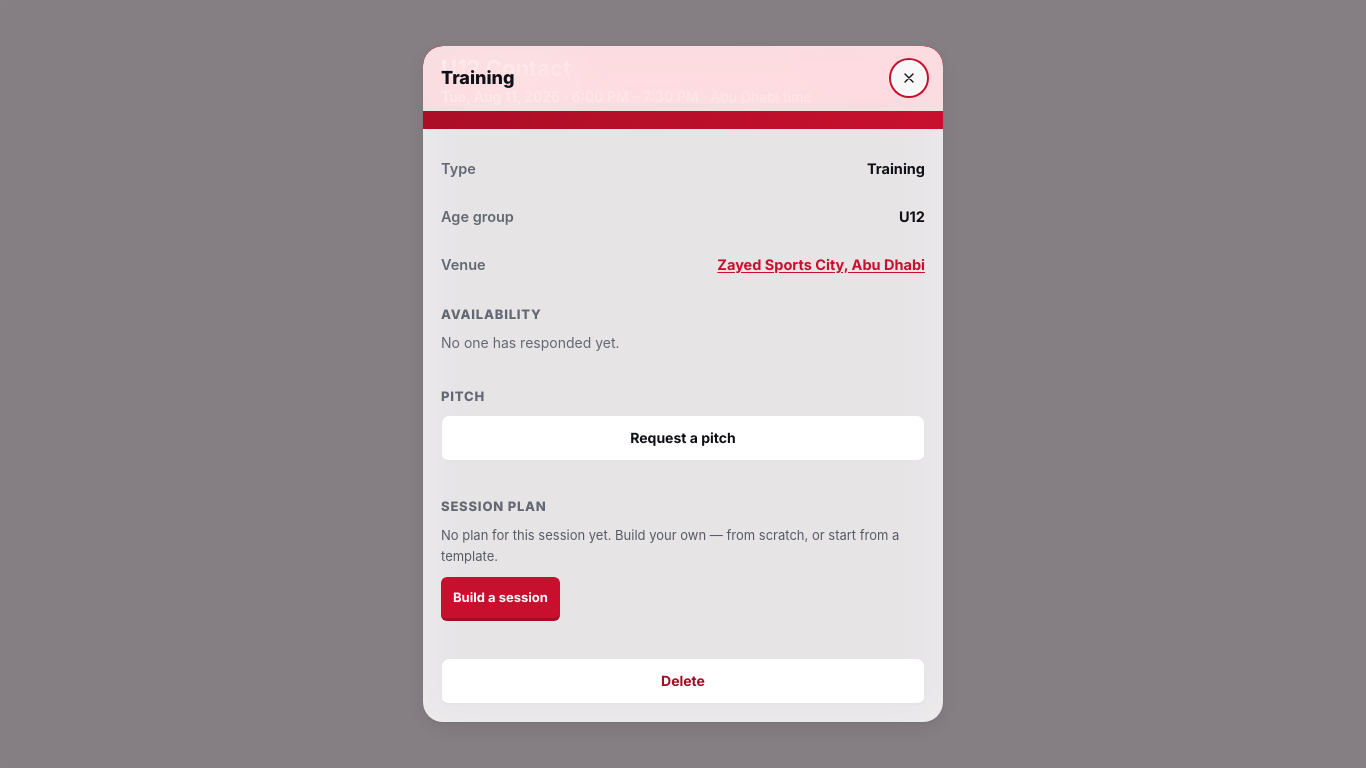
deleting an occurrence of a series › says the already-played sessions are staying
(page scrolled)
Click the button "Delete". click: [683, 682]
box: [441,658,925,706]
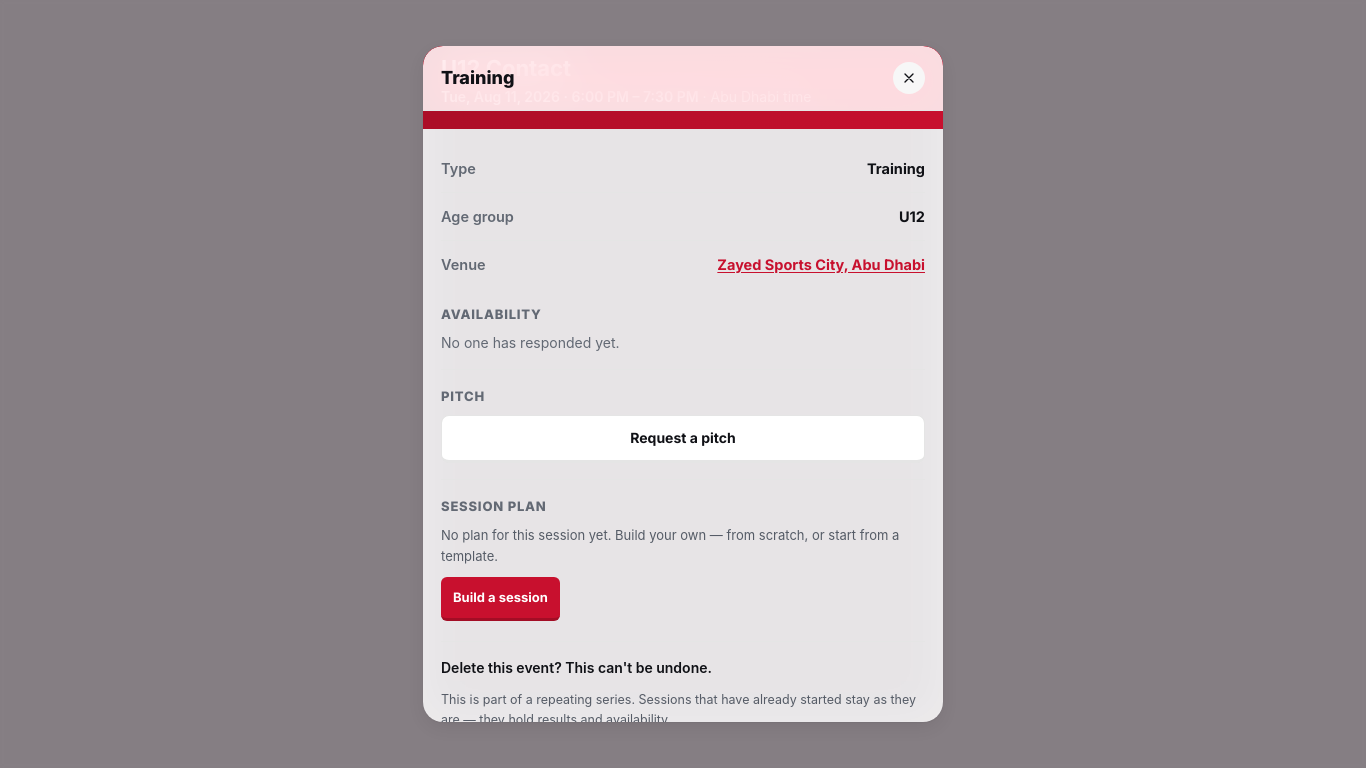
Expected: the text "already started stay" is shown, [441,692,916,722]
